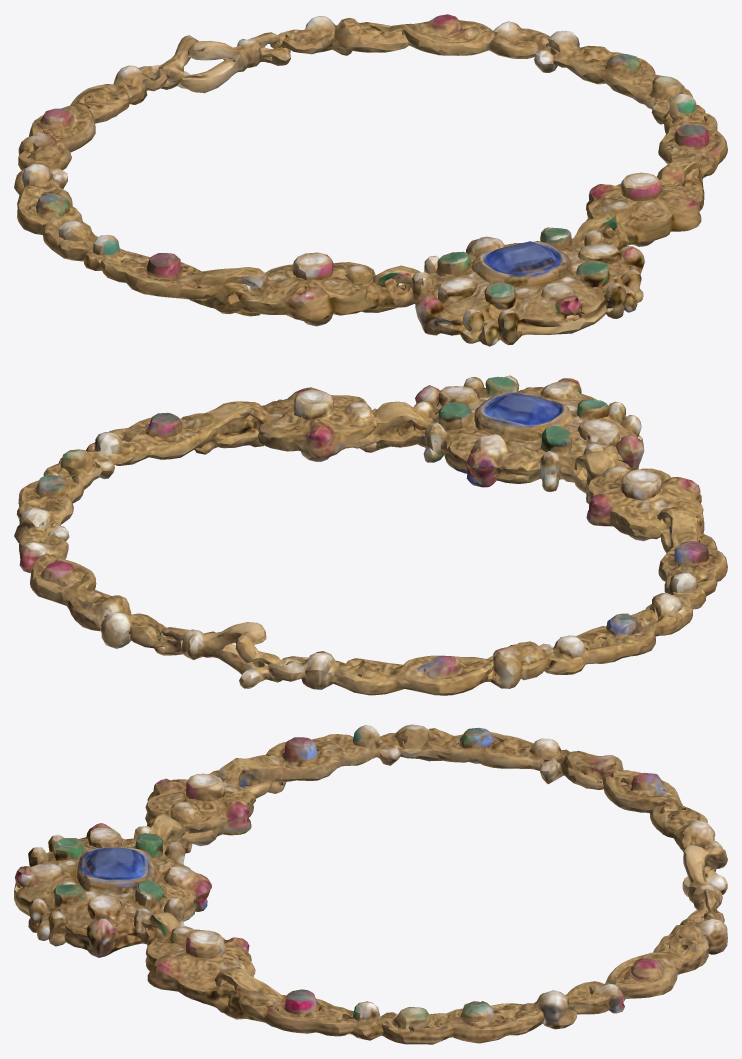
Rendered from heirloom.glb.
3 views of the same model, one above another, from view 1: azimuth 30°, elevation 25°; view 2: azimuth 150°, elevation 25°; view 3: azimuth 270°, elevation 25° (orthographic).
Visible parts, largest first — view 1: geometry_0; view 2: geometry_0; view 3: geometry_0.
Boxes of the visible parts, x1,y1,x2,y2 form: geometry_0: [14, 14, 727, 346]; geometry_0: [14, 375, 727, 695]; geometry_0: [14, 724, 727, 1044].
Bounding box in the file's own units: 0.42 × 0.0451 × 0.4196.
1 material, 1 textured.
